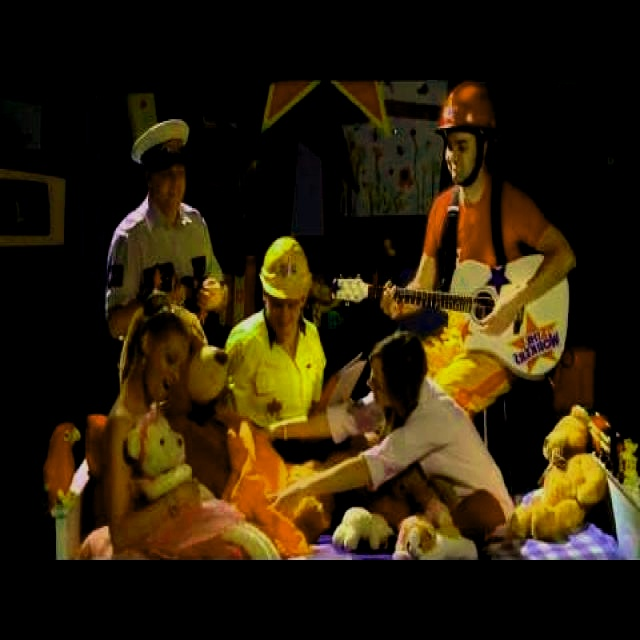Con_Casco: (436, 80, 498, 185), (258, 239, 311, 331)
